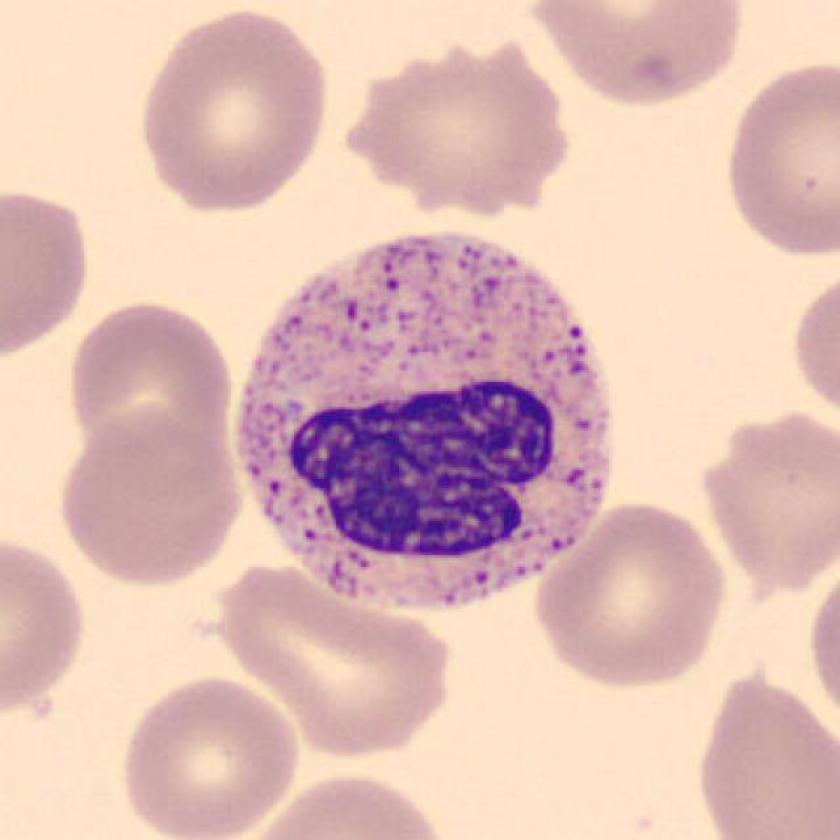neutrophil: (235, 232, 611, 610)
